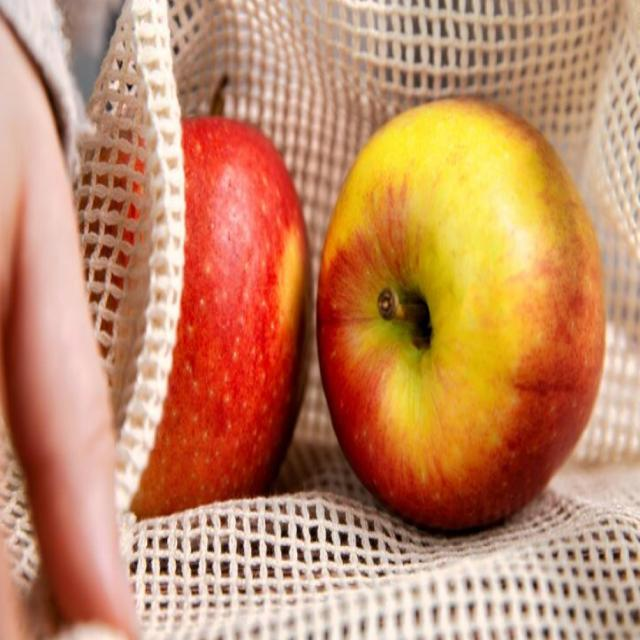apple: (299, 61, 625, 584), (54, 50, 318, 549)
